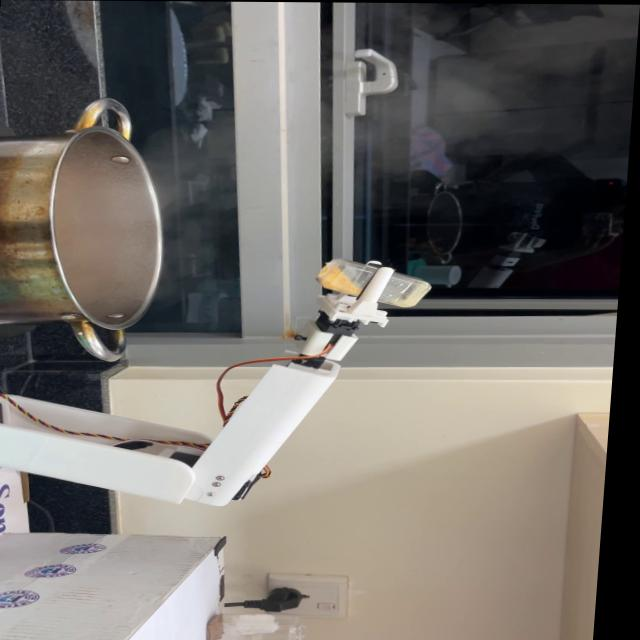cooking_pot: (0, 99, 179, 361)
curry_powder: (319, 264, 371, 294)
